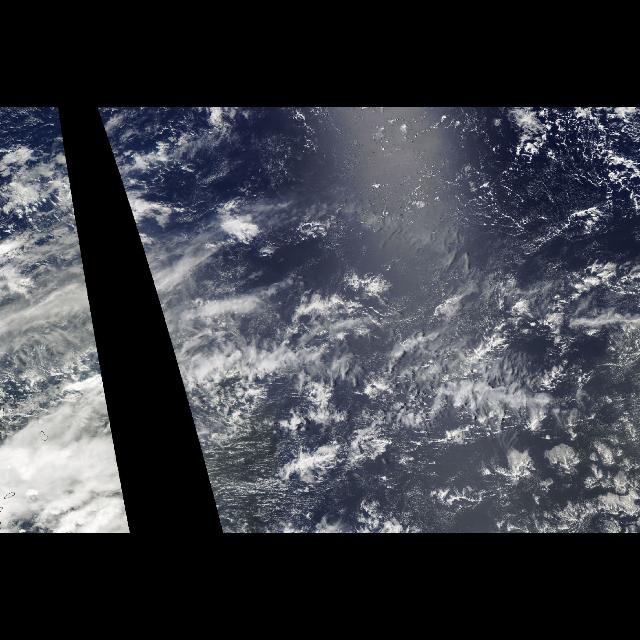Gravel: (442, 110, 630, 270)
